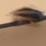cockroach: (12, 6, 43, 20)
